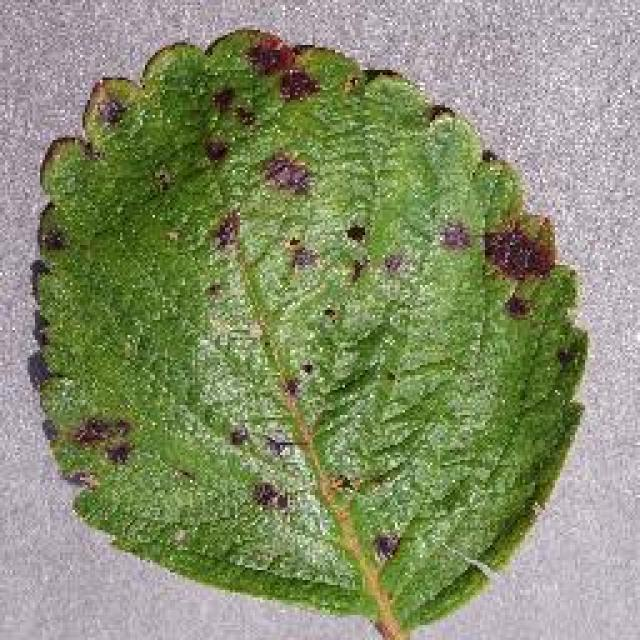Strawberry leaf scorch: (123, 105, 520, 528)
